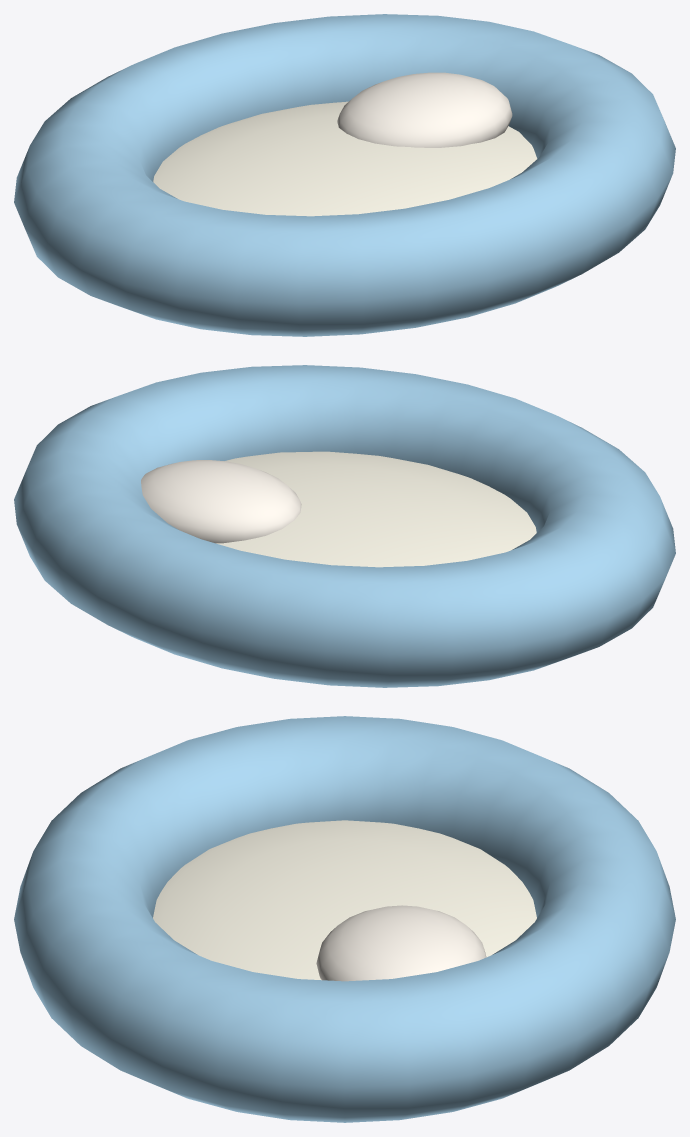
Rendered from bed-blue.glb.
The picture shows the model from 3 angles, top to bottom: view 1: azimuth 30°, elevation 25°; view 2: azimuth 150°, elevation 25°; view 3: azimuth 270°, elevation 25°; orthographic projection. The views are drawn at different scales.
Visible parts, largest first — view 1: Soft bed rim, Pet bed cushion, Little pillow; view 2: Soft bed rim, Pet bed cushion, Little pillow; view 3: Soft bed rim, Pet bed cushion, Little pillow.
Boxes of the visible parts, box(x1,y1,x2,y2) form: Soft bed rim: box(14, 14, 675, 336); Pet bed cushion: box(153, 101, 537, 216); Little pillow: box(337, 72, 512, 147); Soft bed rim: box(14, 365, 675, 687); Pet bed cushion: box(216, 451, 536, 567); Little pillow: box(141, 460, 301, 543); Soft bed rim: box(14, 716, 675, 1122); Pet bed cushion: box(153, 820, 536, 980); Little pillow: box(316, 905, 486, 981).
Size of the model in its own units: 1.94 by 0.4417 by 1.62.
